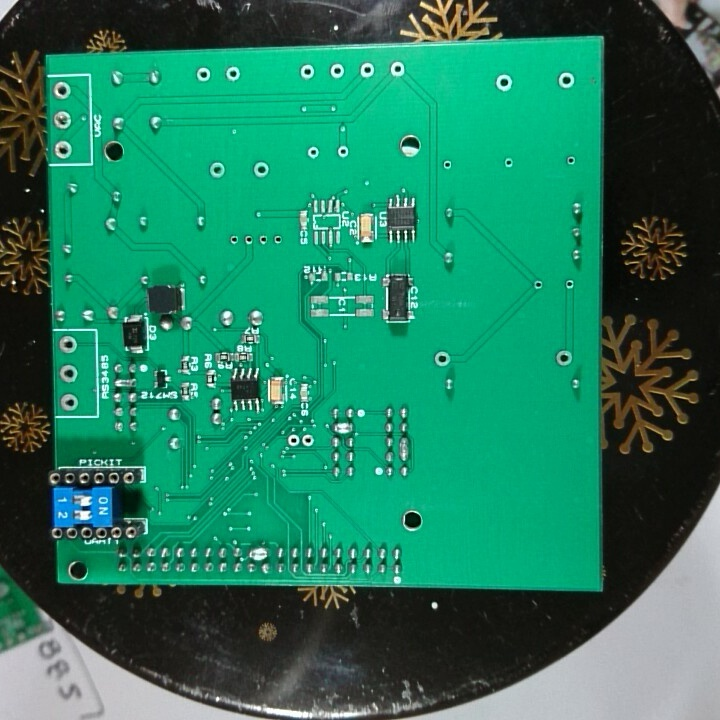F: (551, 346, 576, 370), (555, 69, 578, 93), (52, 108, 75, 131), (494, 72, 516, 94), (50, 80, 72, 102), (56, 334, 79, 355), (58, 362, 79, 385), (58, 392, 81, 413), (431, 349, 454, 369), (54, 139, 74, 161), (297, 62, 317, 83), (357, 58, 377, 79), (250, 160, 271, 180), (207, 160, 227, 180), (194, 64, 213, 85), (386, 59, 406, 78), (223, 63, 242, 82), (328, 62, 347, 80), (299, 432, 316, 451), (254, 231, 271, 249), (305, 144, 321, 163), (531, 278, 548, 295), (334, 144, 351, 160), (440, 157, 455, 175), (270, 229, 285, 247), (285, 432, 300, 450), (561, 277, 578, 292), (502, 155, 517, 172), (227, 232, 242, 249), (241, 232, 256, 249), (562, 152, 580, 166)
P: (245, 544, 275, 561), (111, 376, 142, 390), (397, 435, 411, 464), (331, 420, 357, 435)
